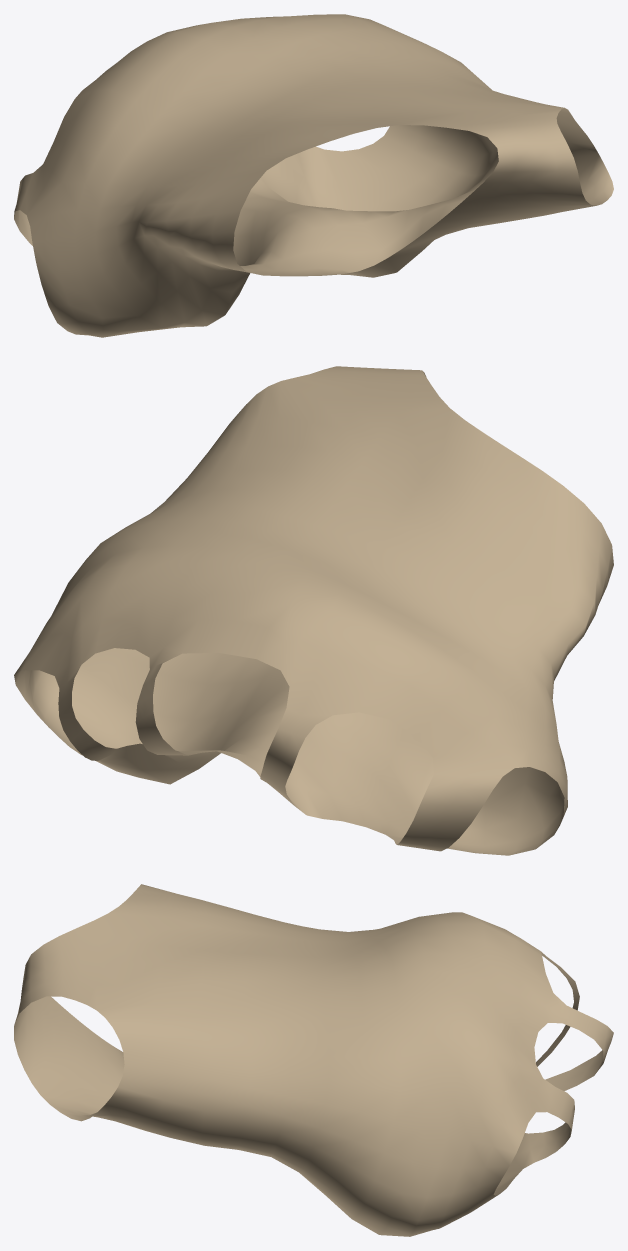
3 views of the same model, one above another, from view 1: azimuth 30°, elevation 25°; view 2: azimuth 150°, elevation 25°; view 3: azimuth 270°, elevation 25° (orthographic). The views are drawn at different scales.
Visible parts, largest first — view 1: 右侧桡腕关节囊; view 2: 右侧桡腕关节囊; view 3: 右侧桡腕关节囊.
Part boxes in pixels (x1,y1,x2,y2): 右侧桡腕关节囊: (14, 14, 613, 337); 右侧桡腕关节囊: (14, 366, 613, 855); 右侧桡腕关节囊: (14, 884, 613, 1236).
Size of the model in its own units: 0.0809 by 0.0446 by 0.0901.
